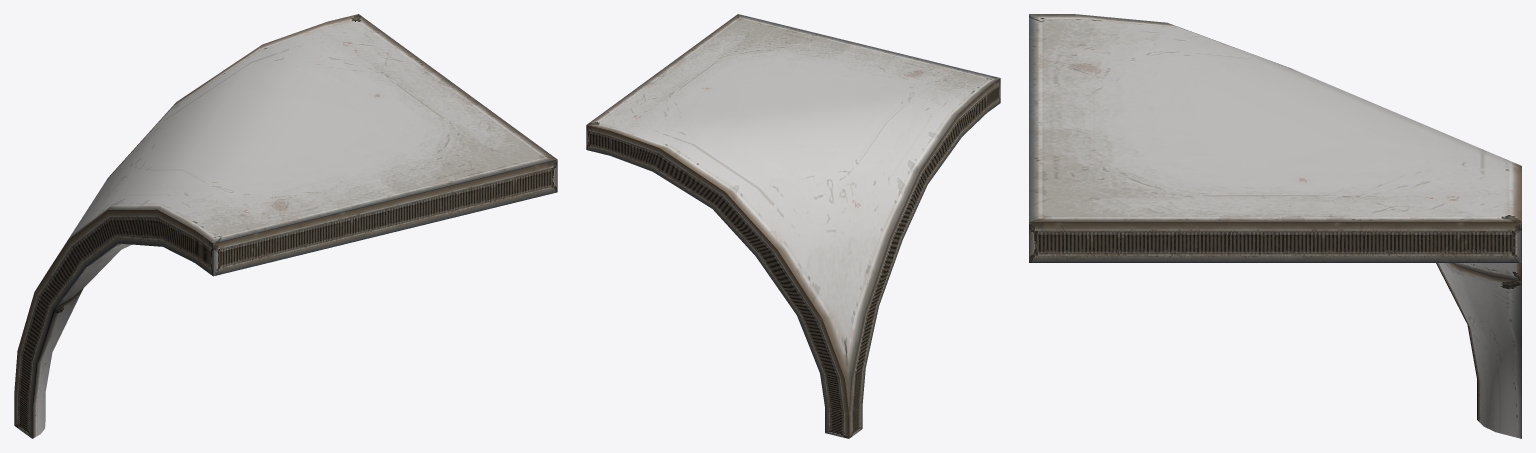
The model's file is scifi_wall_top2_curve2_1.FBX.
The picture shows the model from 3 angles, left to right: view 1: azimuth 30°, elevation 25°; view 2: azimuth 150°, elevation 25°; view 3: azimuth 270°, elevation 25°; orthographic projection. The views are drawn at different scales.
Parts seen in each view (by area): view 1: Plane344; view 2: Plane344; view 3: Plane344.
Boxes of the visible parts, x1,y1,x2,y2 form: Plane344: (14, 14, 557, 438); Plane344: (586, 14, 1000, 438); Plane344: (1029, 14, 1521, 438).
Bounding box in the file's own units: 279 × 254 × 279.
